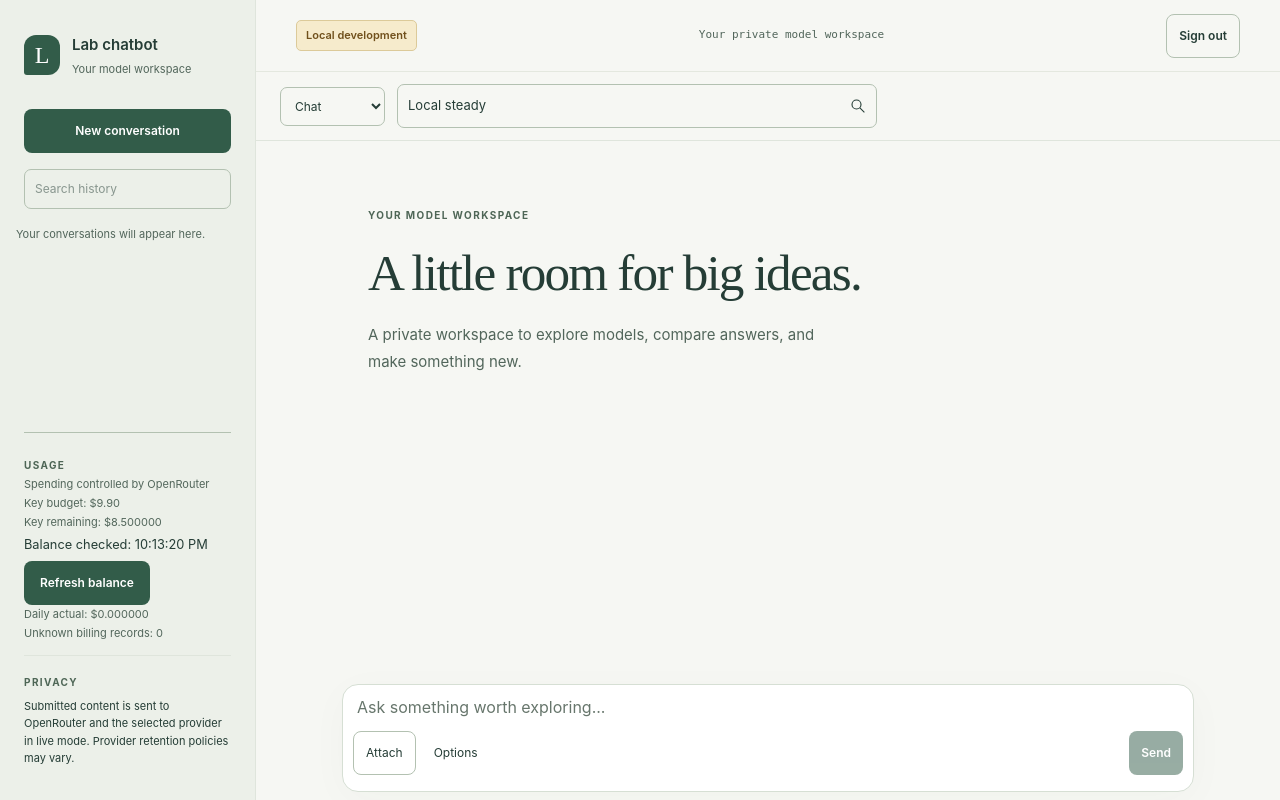
Scenario: manual balance failure stays visible in Usage and can be retried
This screenshot has width=1280, height=800.
Check: the text "Key remaining: $8.500000" is shown, box [24, 515, 162, 529]
Click the button "Refresh balance".
click(87, 583)  # box [24, 561, 150, 605]
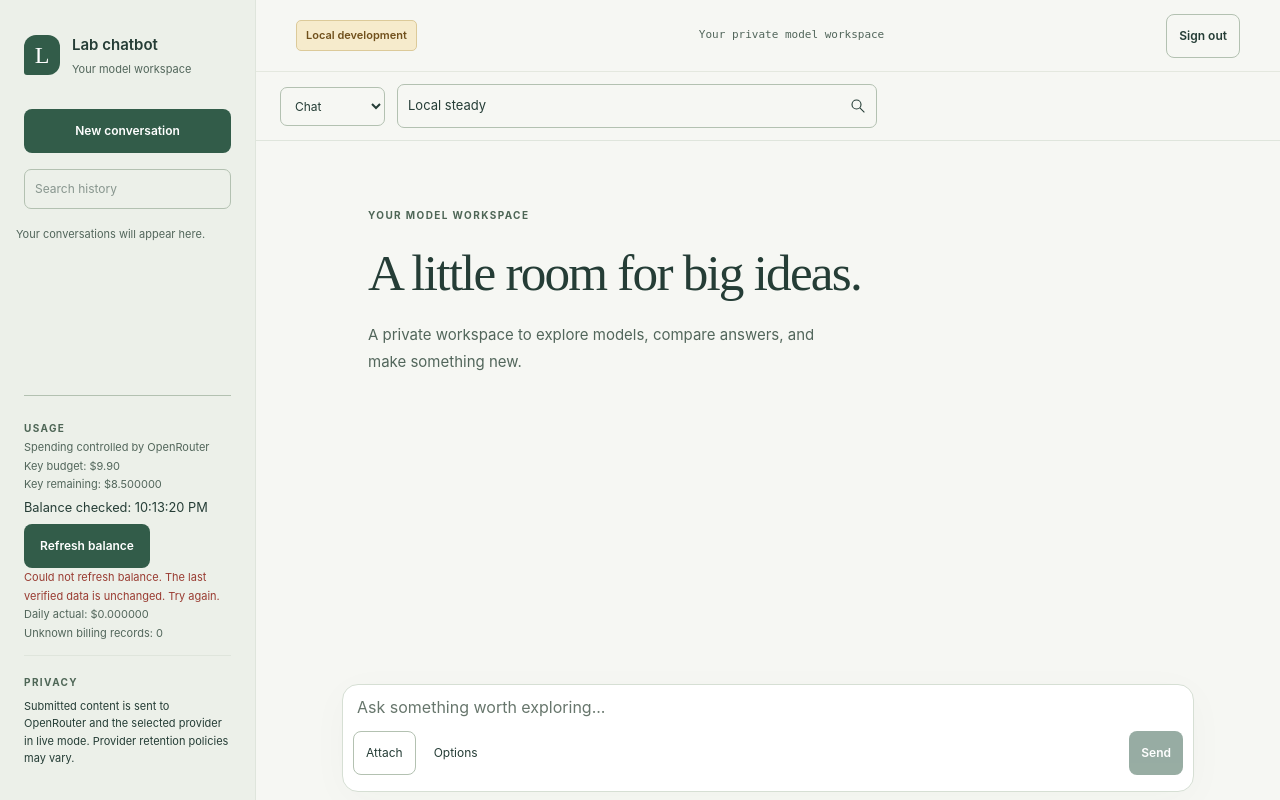
Check: the text "Key remaining: $8.500000" is shown, box [24, 477, 162, 491]
Check: the message shows "Could not refresh balance.", box [24, 570, 220, 603]
Click the button "Refresh balance".
click(87, 546)  # box [24, 524, 150, 568]
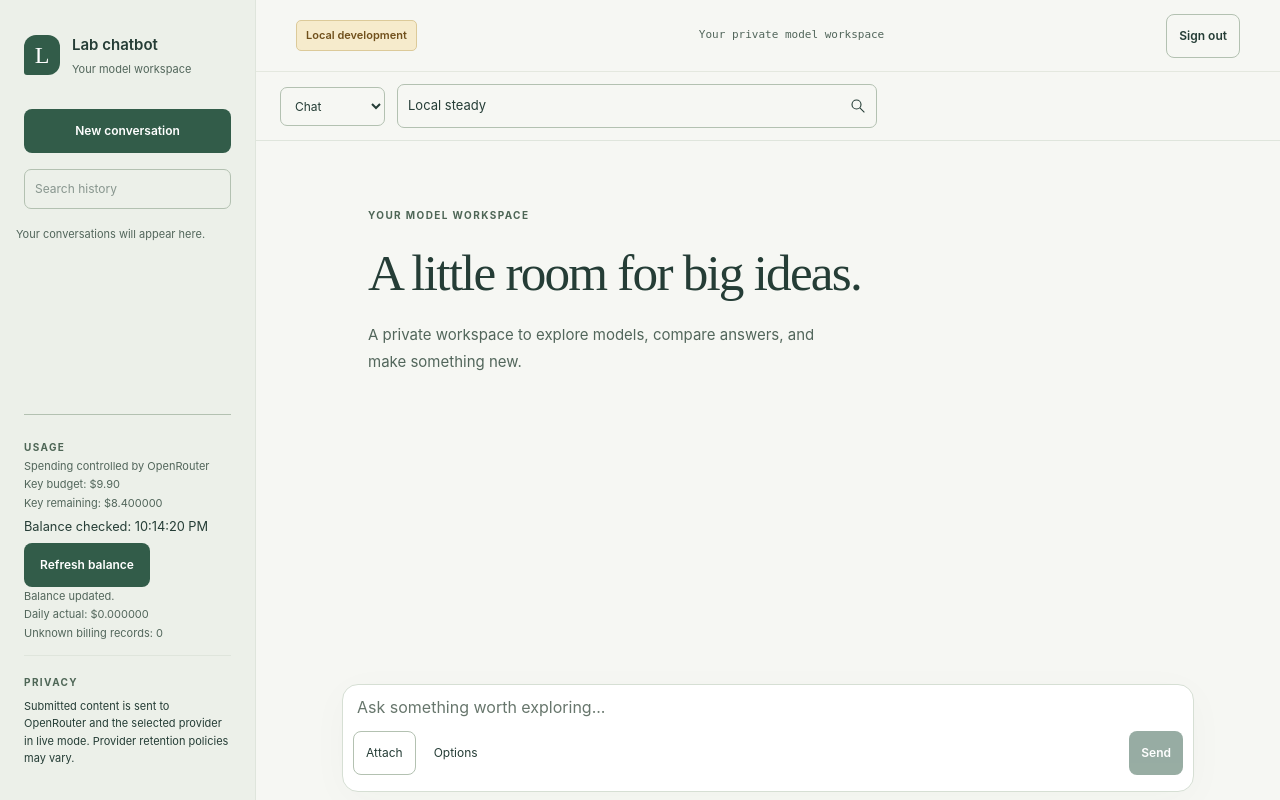
Check: the message reads "Balance updated.", box [24, 589, 114, 603]
Check: the text "Key remaining: $8.400000" is shown, box [24, 496, 162, 510]
